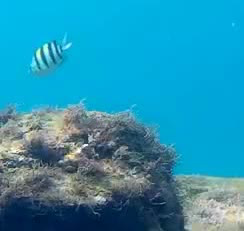smallfish: (23, 33, 75, 80)
